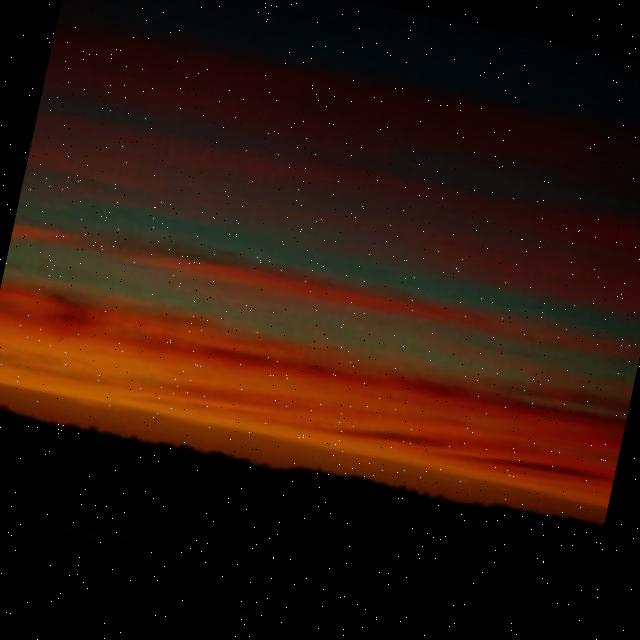Ci: (1, 1, 640, 499)
